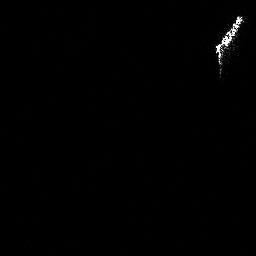ship: (211, 12, 247, 77)
